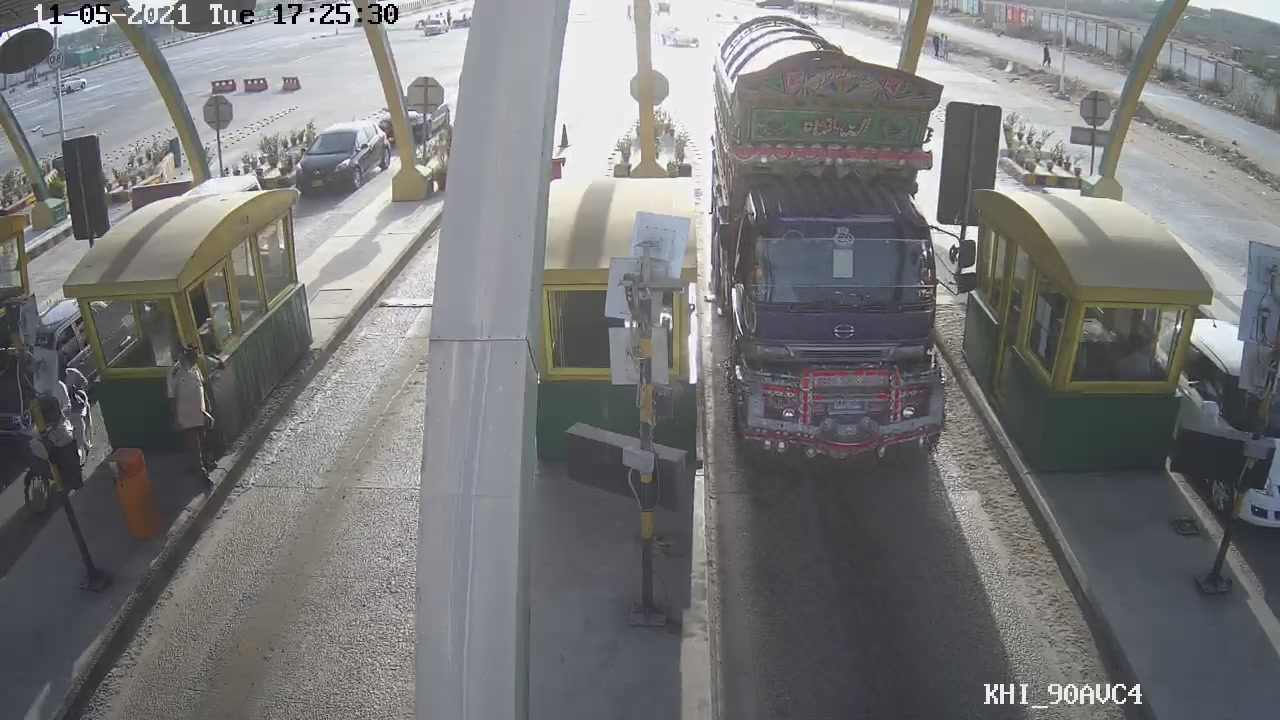F5: (696, 26, 960, 481)
